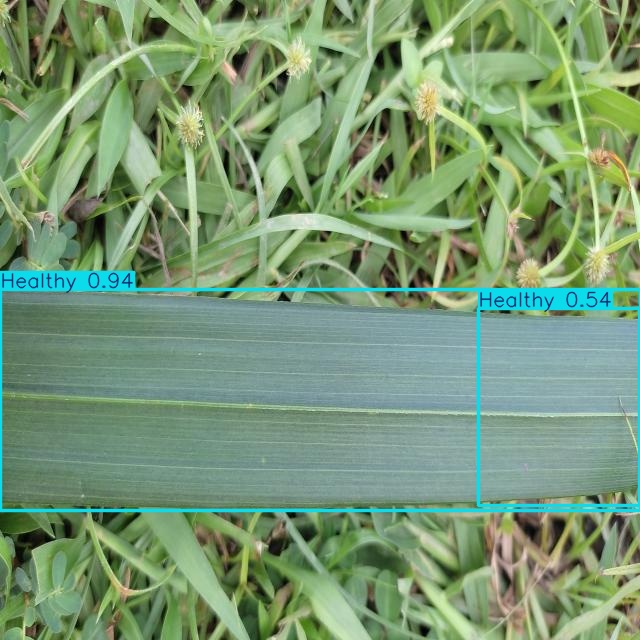Healthy: (0, 290, 640, 510), (479, 309, 640, 506)
